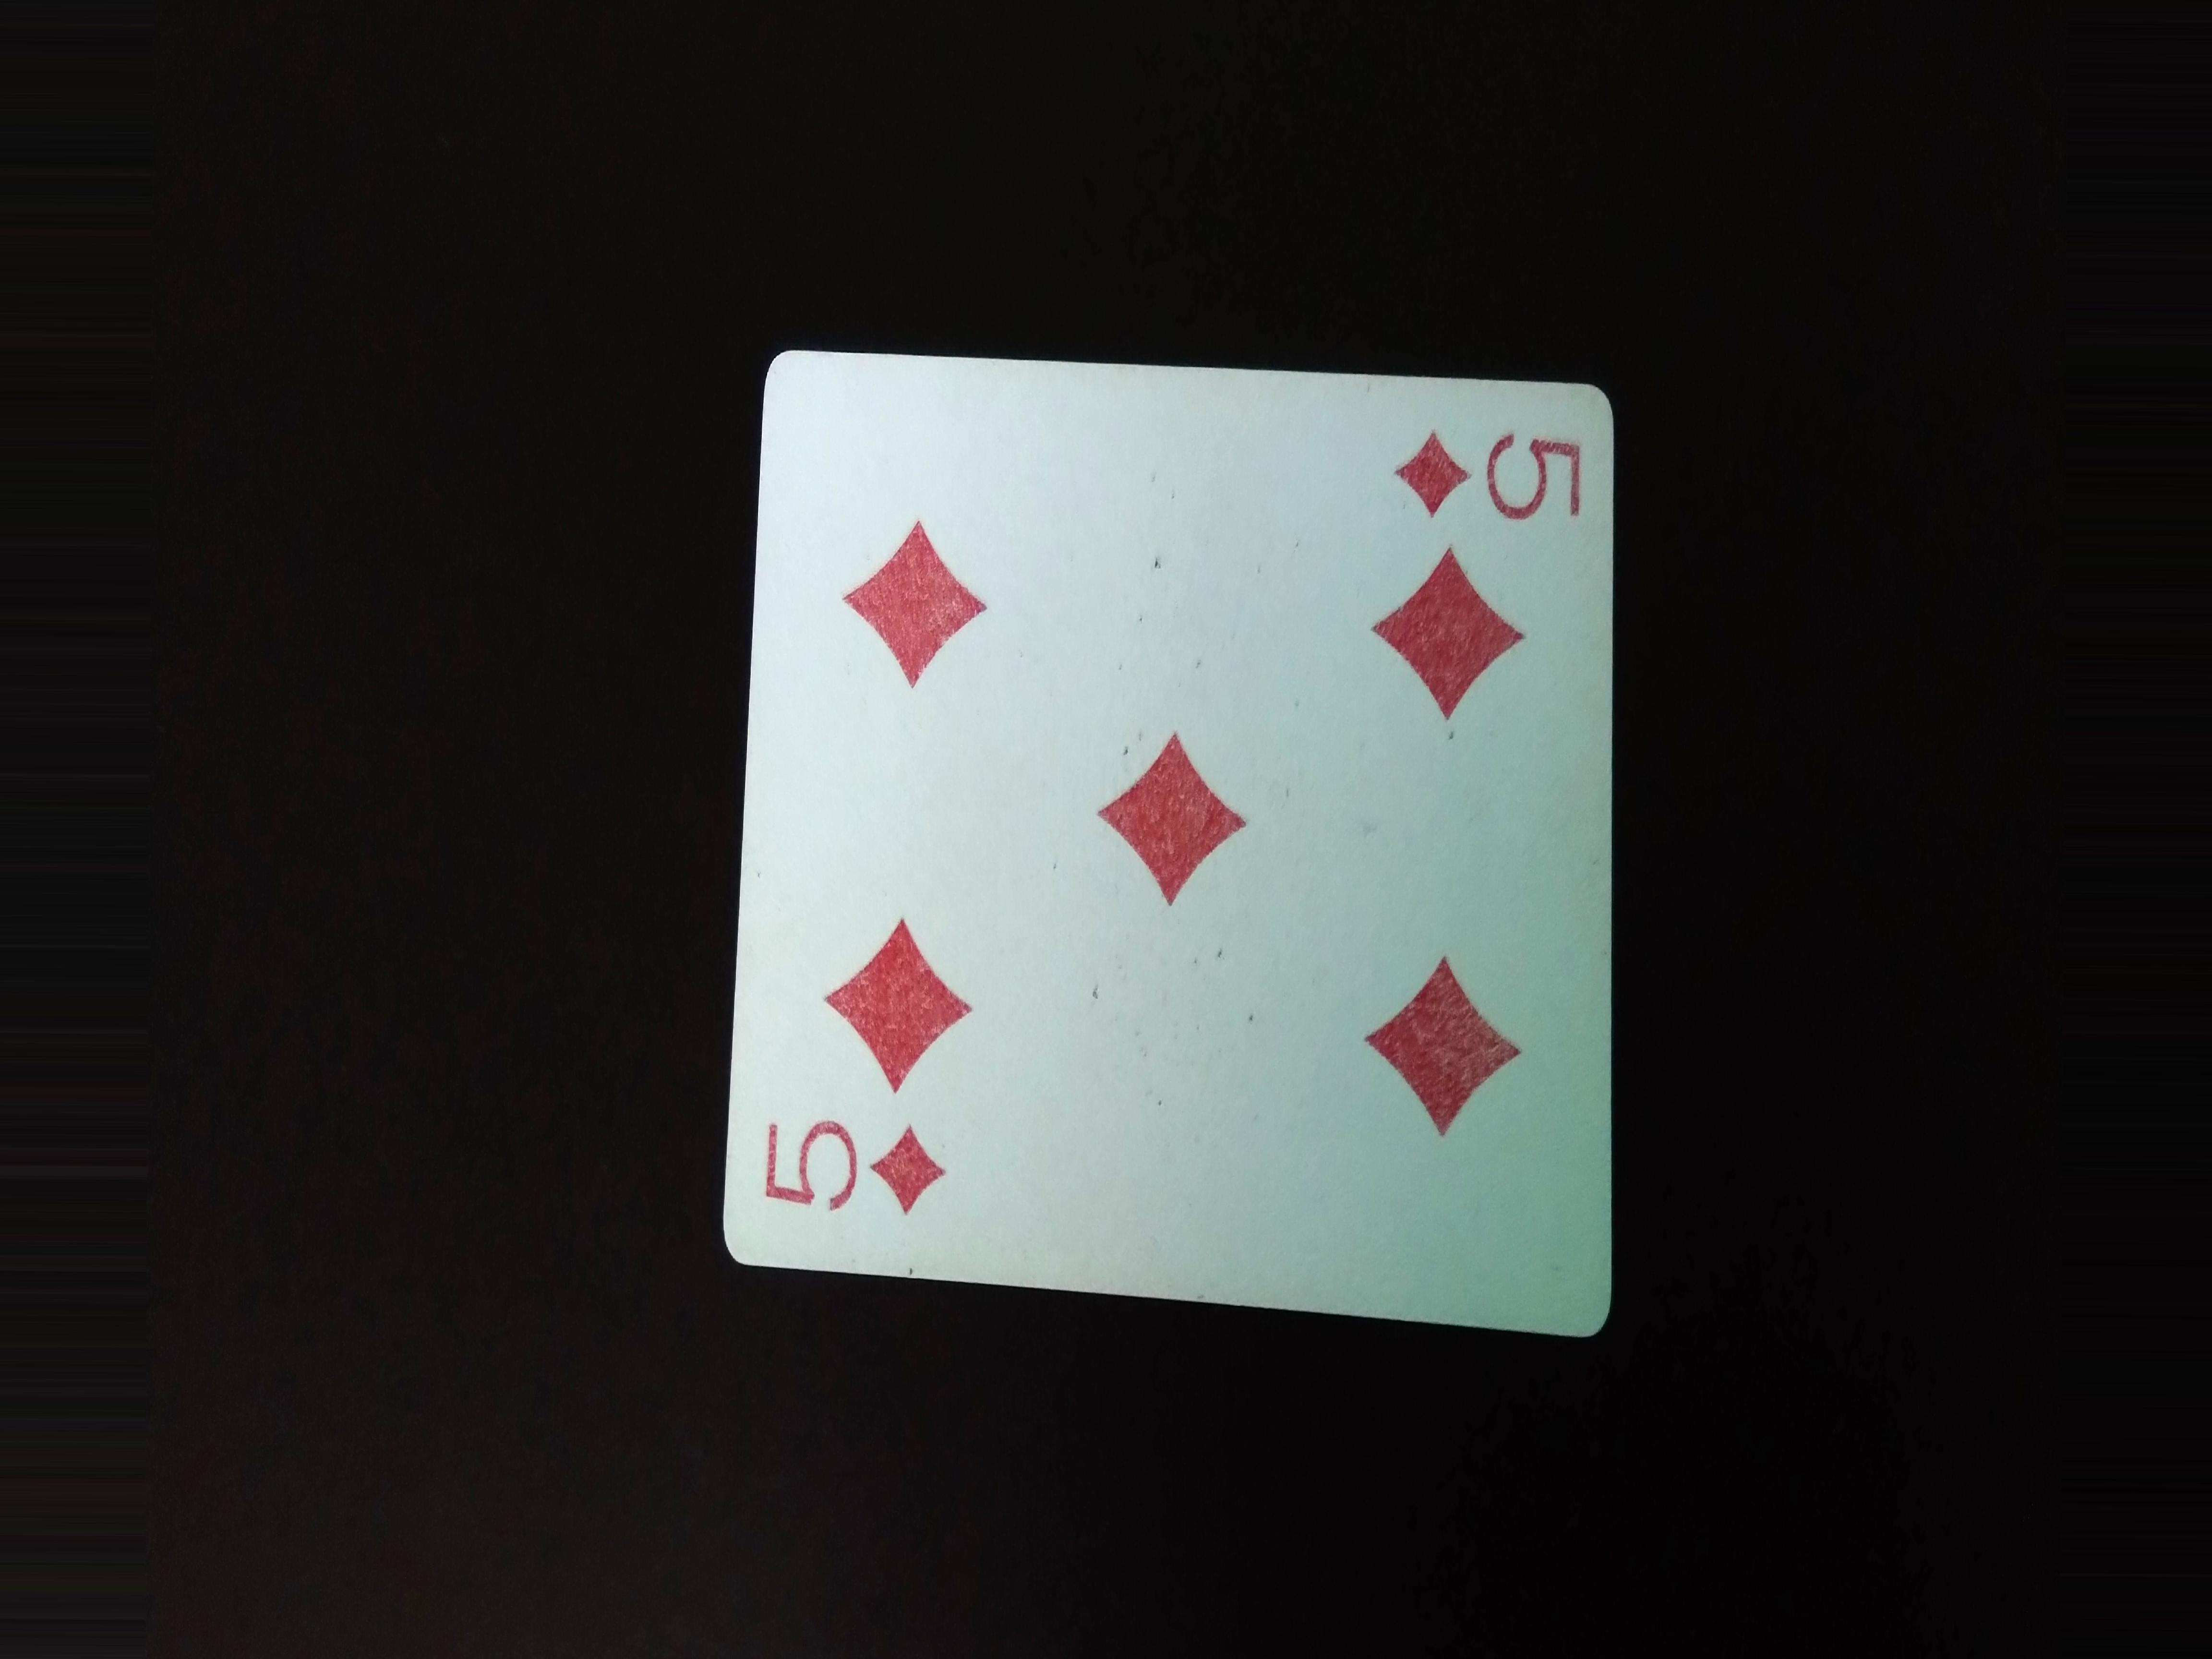5D: (751, 1100, 970, 1237)
